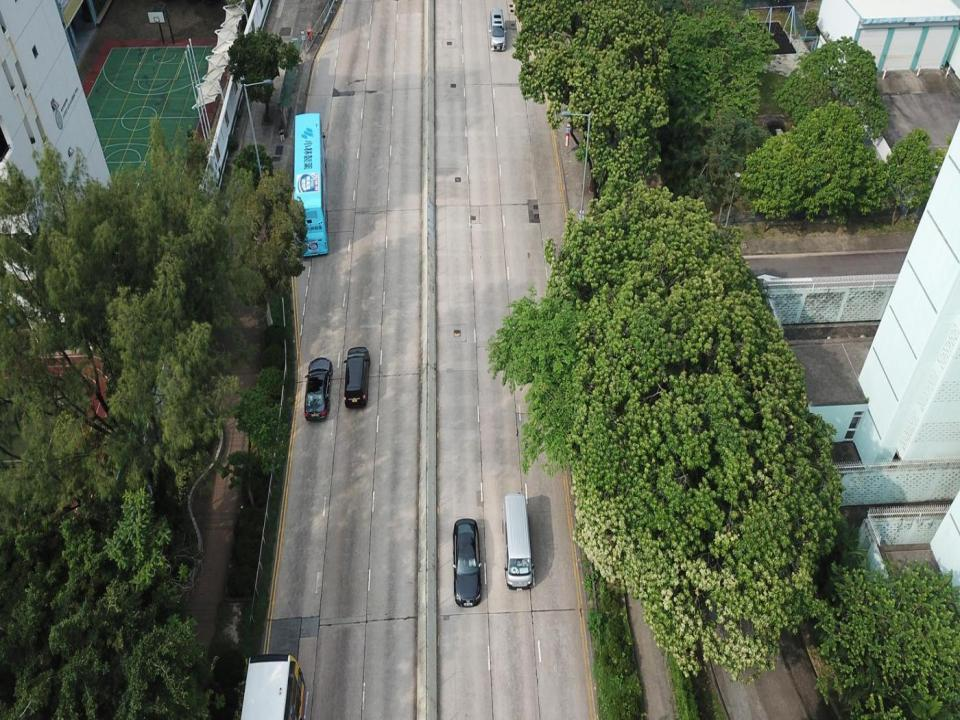bus: (292, 113, 329, 260), (238, 655, 306, 719)
car: (451, 517, 482, 607), (302, 356, 332, 423)
van: (500, 494, 535, 590), (344, 348, 371, 410), (488, 9, 507, 50)
